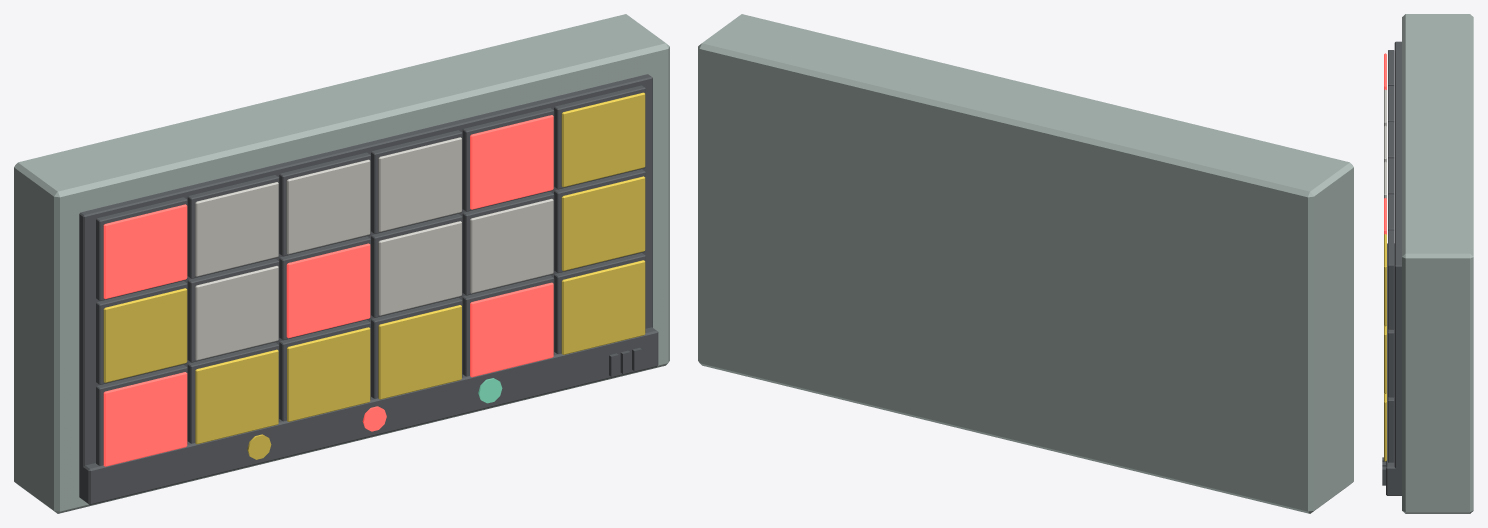
File: nuclear-power-station-and-control-room-alarm-annunciat-a5dfb4e9__36915.glb
The picture shows the model from 3 angles, left to right: view 1: azimuth 30°, elevation 25°; view 2: azimuth 150°, elevation 25°; view 3: azimuth 270°, elevation 25°; orthographic projection. The views are drawn at different scales.
Visible parts, largest first — view 1: alarm-annunciator-panel; view 2: alarm-annunciator-panel; view 3: alarm-annunciator-panel.
Part boxes in pixels (x1,y1,x2,y2): alarm-annunciator-panel: (14,14,669,513); alarm-annunciator-panel: (698,14,1353,513); alarm-annunciator-panel: (1382,14,1473,513).
Bounding box in the file's own units: 1.6 × 0.8001 × 0.255.
